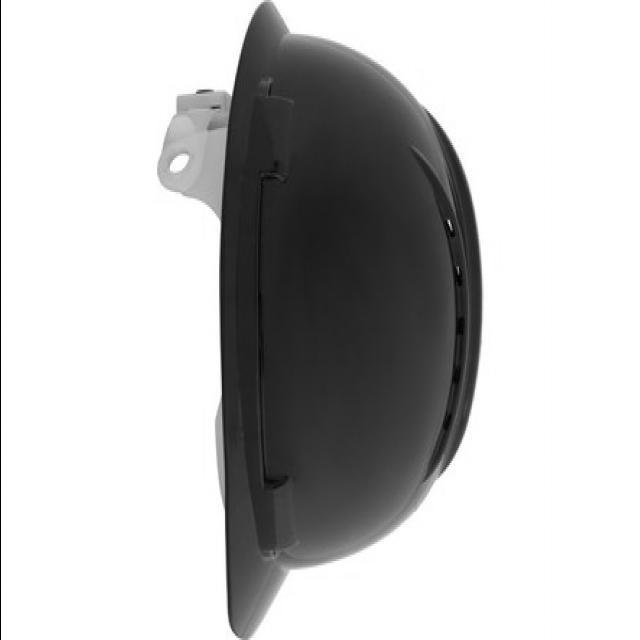safety_helmet: (153, 0, 480, 640)
